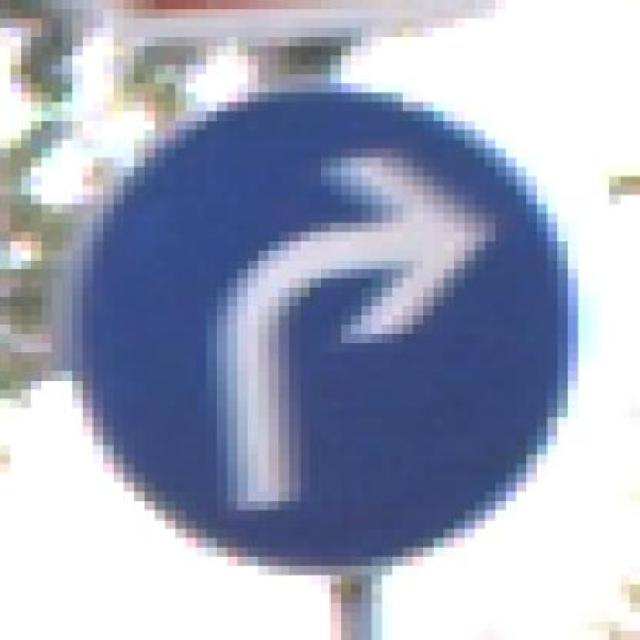Turn right ahead: (42, 74, 609, 594)
